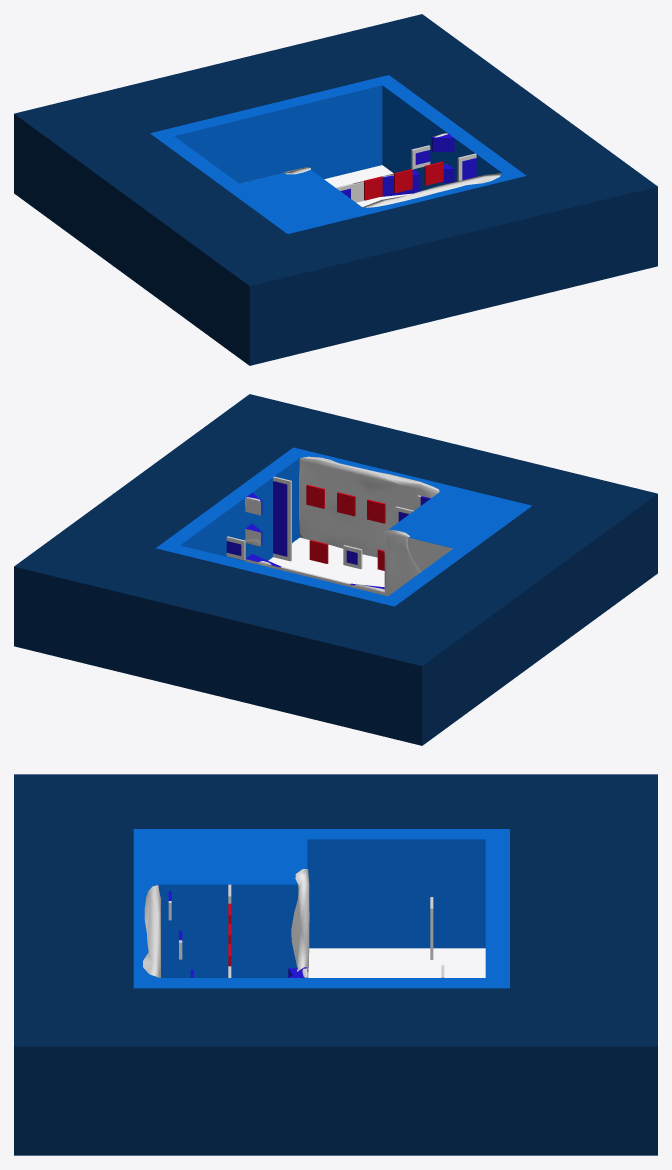
File: FaceB.glb
3 views of the same model, one above another, from view 1: azimuth 30°, elevation 25°; view 2: azimuth 150°, elevation 25°; view 3: azimuth 270°, elevation 25° (orthographic). The views are drawn at different scales.
Parts seen in each view (by area): view 1: paredeTRUETRUE-col.002, PlanoTrue-col, plataforma_frente, plataforma_frente-col.024; view 2: paredeTRUETRUE-col.002, PlanoTrue-col, plataforma_frente, plataforma_frente.001, plataforma_frente-col.055, plataforma_frente-col.014; view 3: paredeTRUETRUE-col.002, PlanoTrue-col, plataforma_frente.
Boxes of the visible parts, left/top/right/bottom form: paredeTRUETRUE-col.002: left=14, top=14, right=657, bottom=365; PlanoTrue-col: left=150, top=75, right=526, bottom=233; plataforma_frente: left=284, top=133, right=501, bottom=207; plataforma_frente-col.024: left=381, top=169, right=420, bottom=196; paredeTRUETRUE-col.002: left=14, top=394, right=657, bottom=745; PlanoTrue-col: left=156, top=447, right=531, bottom=606; plataforma_frente: left=245, top=456, right=439, bottom=596; plataforma_frente.001: left=245, top=500, right=452, bottom=587; plataforma_frente-col.055: left=273, top=481, right=287, bottom=556; plataforma_frente-col.014: left=273, top=476, right=291, bottom=561; paredeTRUETRUE-col.002: left=14, top=774, right=657, bottom=1155; PlanoTrue-col: left=133, top=829, right=509, bottom=988; plataforma_frente: left=143, top=869, right=309, bottom=977.
Size of the model in its own units: 509 by 103 by 509.
